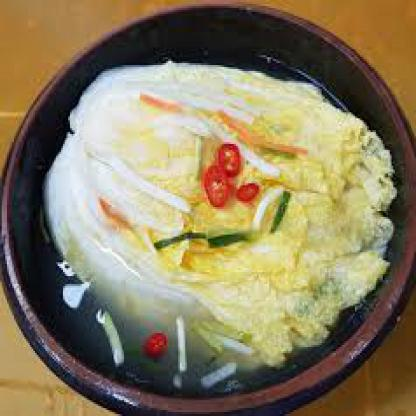baek Kimchi: (63, 71, 370, 345)
